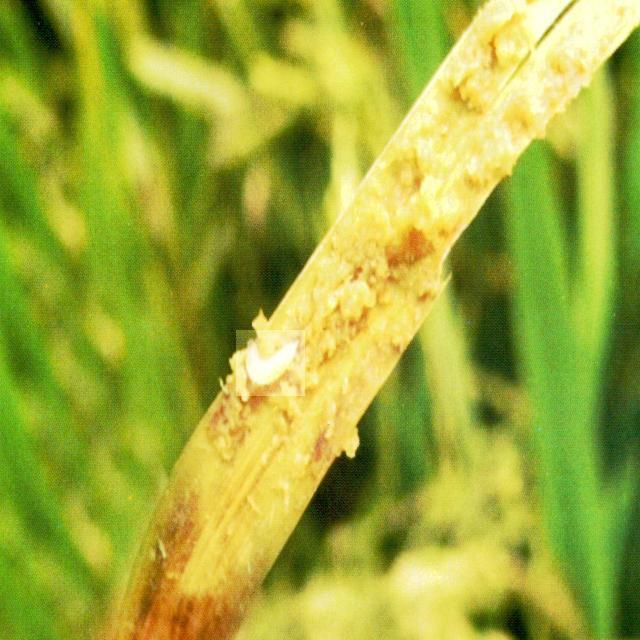whorl-maggot: (236, 331, 305, 397)
